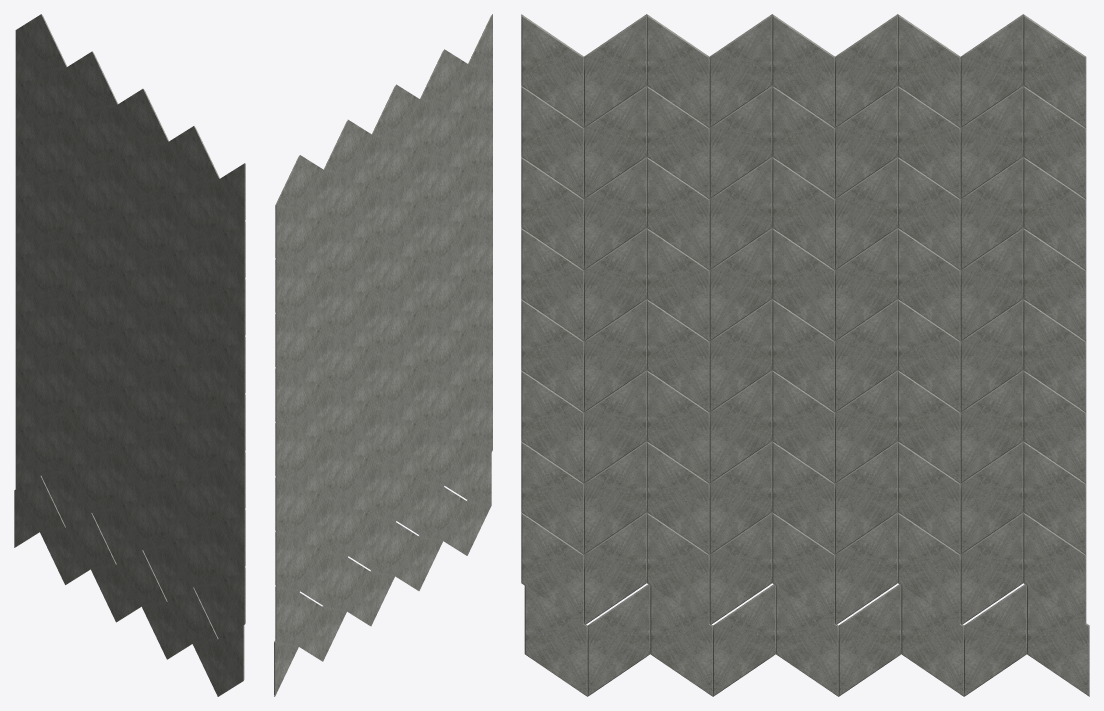
3 views of the same model, side by side, from view 1: azimuth 30°, elevation 25°; view 2: azimuth 150°, elevation 25°; view 3: azimuth 270°, elevation 25° (orthographic). The views are drawn at different scales.
Size of the model in its own units: 0.008 by 3.22 by 2.43.
1 material, 1 textured.
